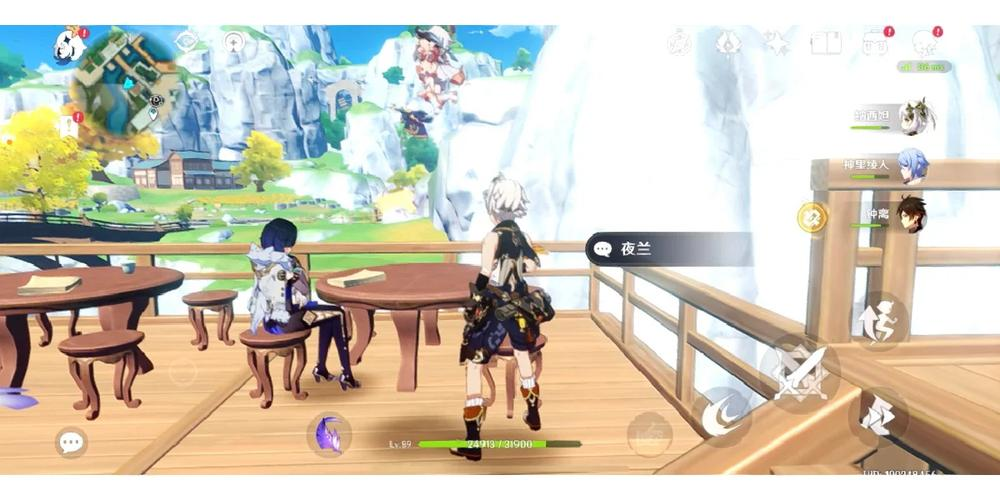夜兰: (248, 209, 368, 400)
